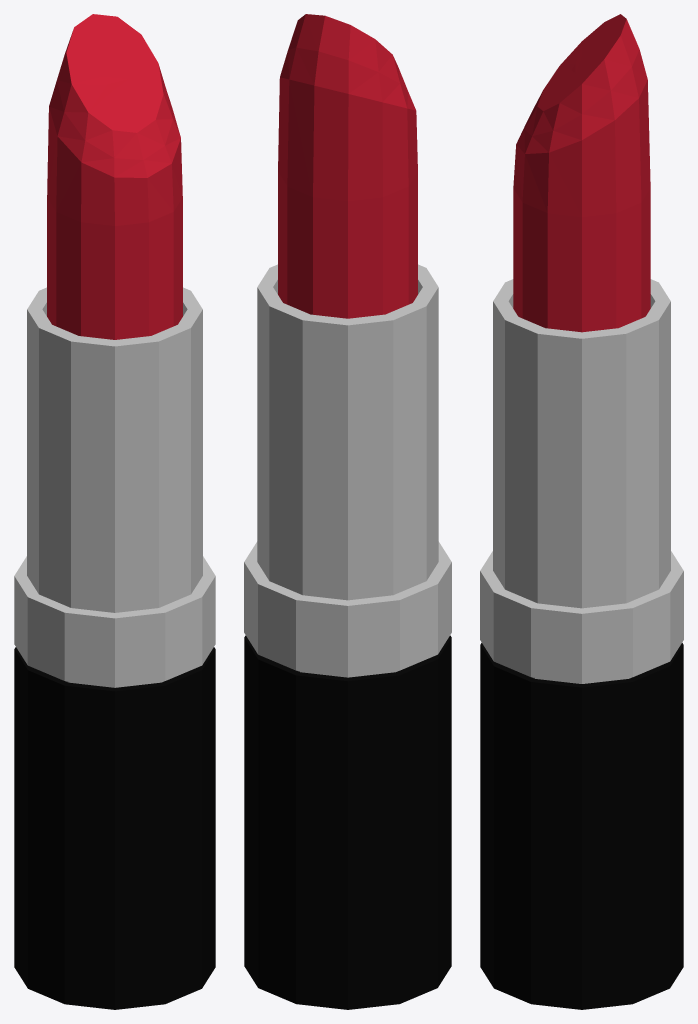
The model's file is lipsticks2.dae.
3 views of the same model, side by side, from view 1: azimuth 30°, elevation 25°; view 2: azimuth 150°, elevation 25°; view 3: azimuth 270°, elevation 25° (orthographic). The views are drawn at different scales.
Parts seen in each view (by area): view 1: Lipstick; view 2: Lipstick; view 3: Lipstick.
Boxes of the visible parts, x1,y1,x2,y2 form: Lipstick: (14, 14, 215, 1009); Lipstick: (244, 14, 451, 1009); Lipstick: (480, 14, 683, 1009).
Size of the model in its own units: 0.0285 by 0.1465 by 0.0285.
